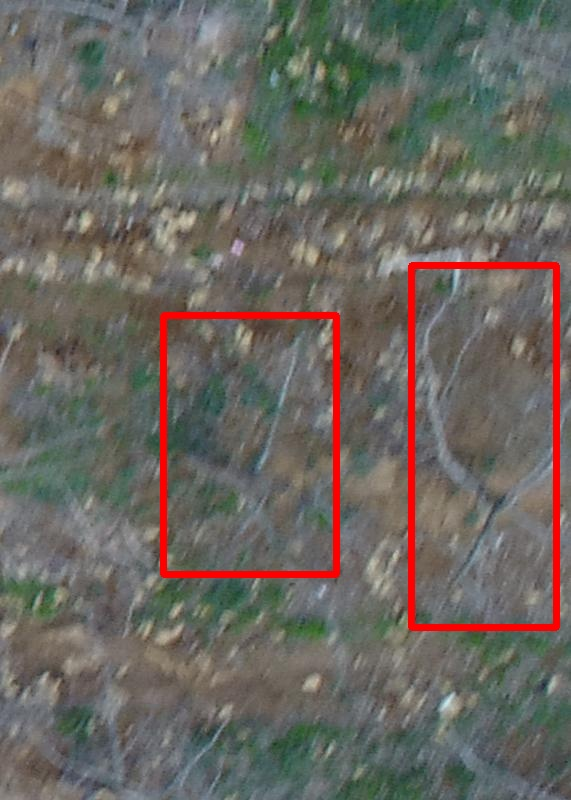apple: (411, 265, 556, 627), (163, 315, 336, 574)
